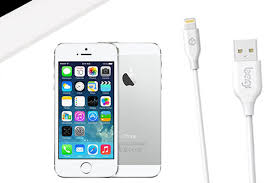iphone: (53, 41, 119, 180)
iphone5: (53, 40, 119, 179)
